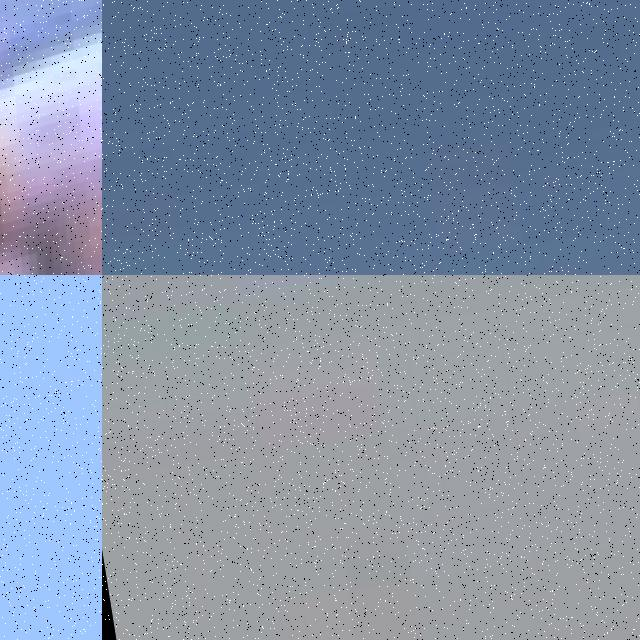drone: (0, 0, 102, 275)
